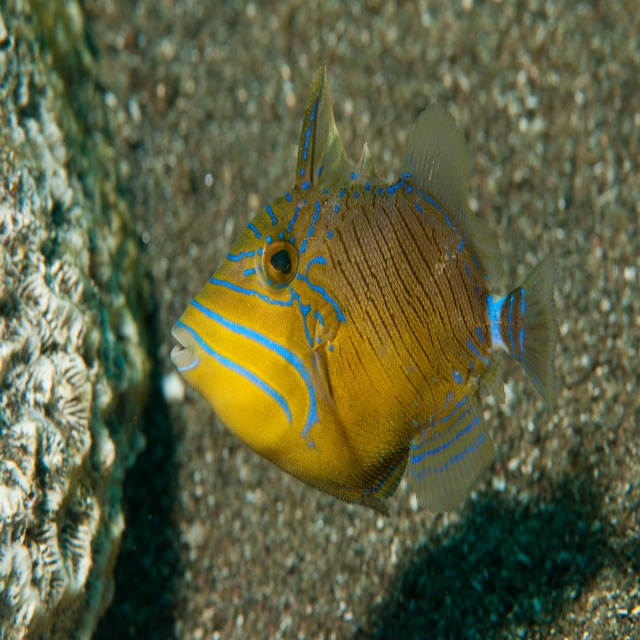Fish: (168, 80, 556, 566)
